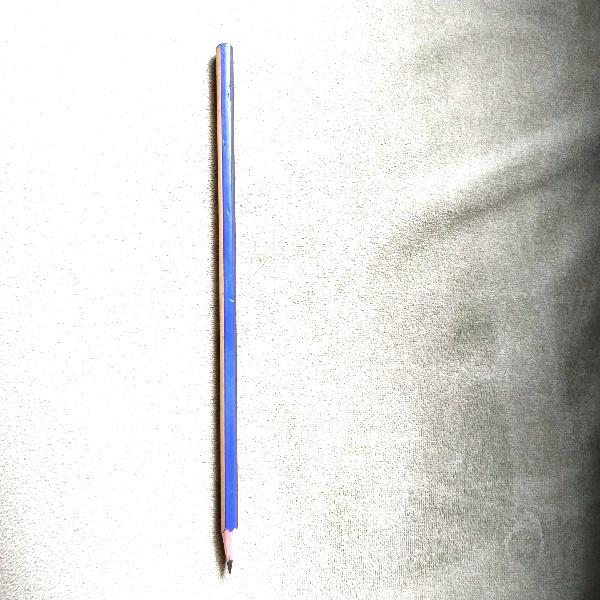pencil: (204, 39, 251, 581)
